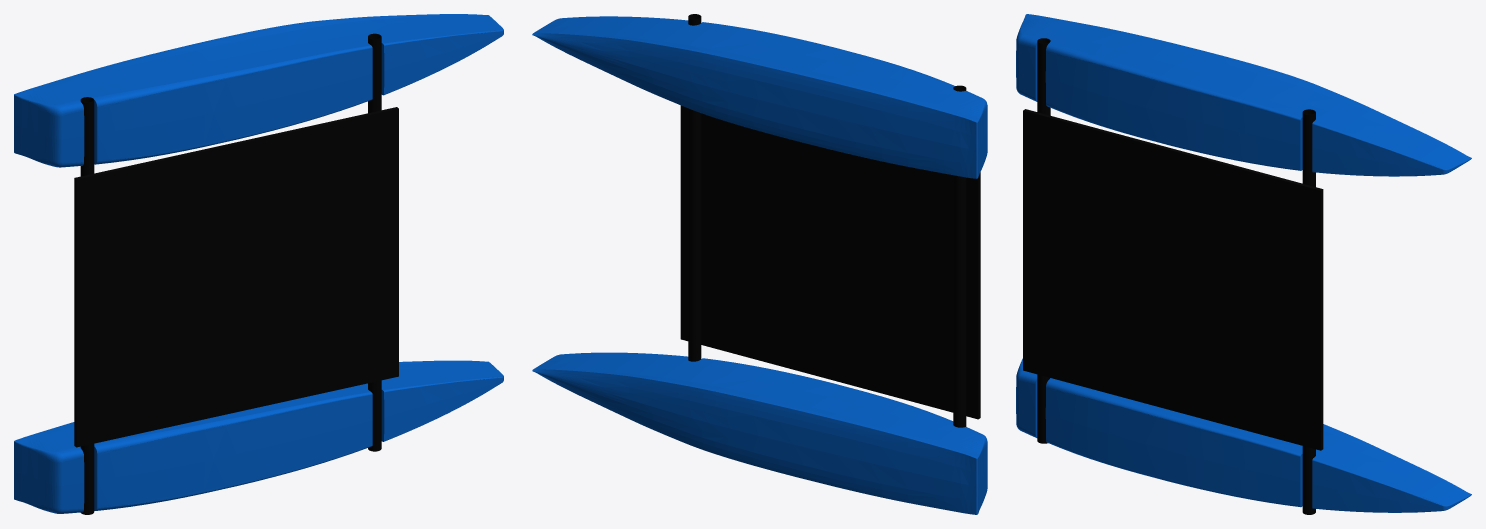
3 renders of one model, left to right at view 1: azimuth 30°, elevation 25°; view 2: azimuth 150°, elevation 25°; view 3: azimuth 330°, elevation 25°, orthographic. The views are drawn at different scales.
Visible parts, largest first — view 1: base_link_visual.001; view 2: base_link_visual.001; view 3: base_link_visual.001.
Part boxes in pixels (x1,y1,x2,y2): base_link_visual.001: (14, 14, 503, 514); base_link_visual.001: (532, 14, 987, 514); base_link_visual.001: (1016, 14, 1471, 514).
Size of the model in its own units: 1.19 by 1.01 by 0.192.
